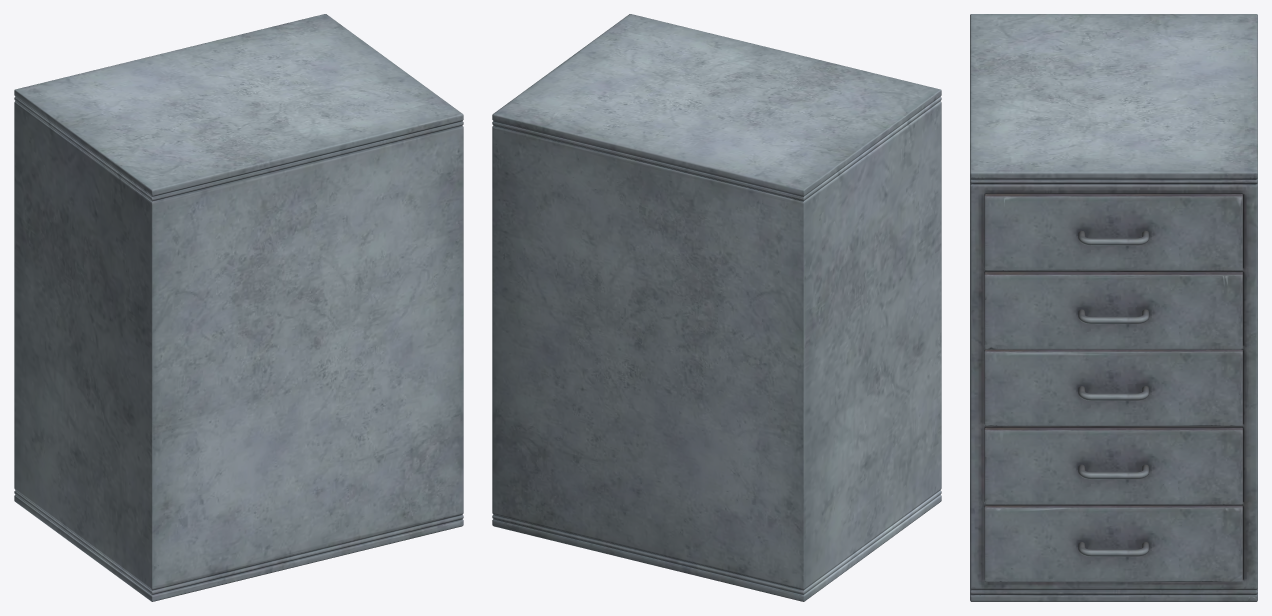
The model's file is b600cbf2-cfb7-4abb-b7f8-86c83cad5ad4.glb.
The picture shows the model from 3 angles, left to right: view 1: azimuth 30°, elevation 25°; view 2: azimuth 150°, elevation 25°; view 3: azimuth 270°, elevation 25°; orthographic projection. The views are drawn at different scales.
Visible parts, largest first — view 1: wenjianaigui.001; view 2: wenjianaigui.001; view 3: wenjianaigui.001.
Part boxes in pixels (box(x1,y1,x2,y2)): wenjianaigui.001: box(14, 14, 463, 601); wenjianaigui.001: box(492, 14, 941, 601); wenjianaigui.001: box(970, 14, 1257, 601).
Bounding box in the file's own units: 0.5773 × 0.6777 × 0.4111.
Materials: 1 (1 with a texture image).
